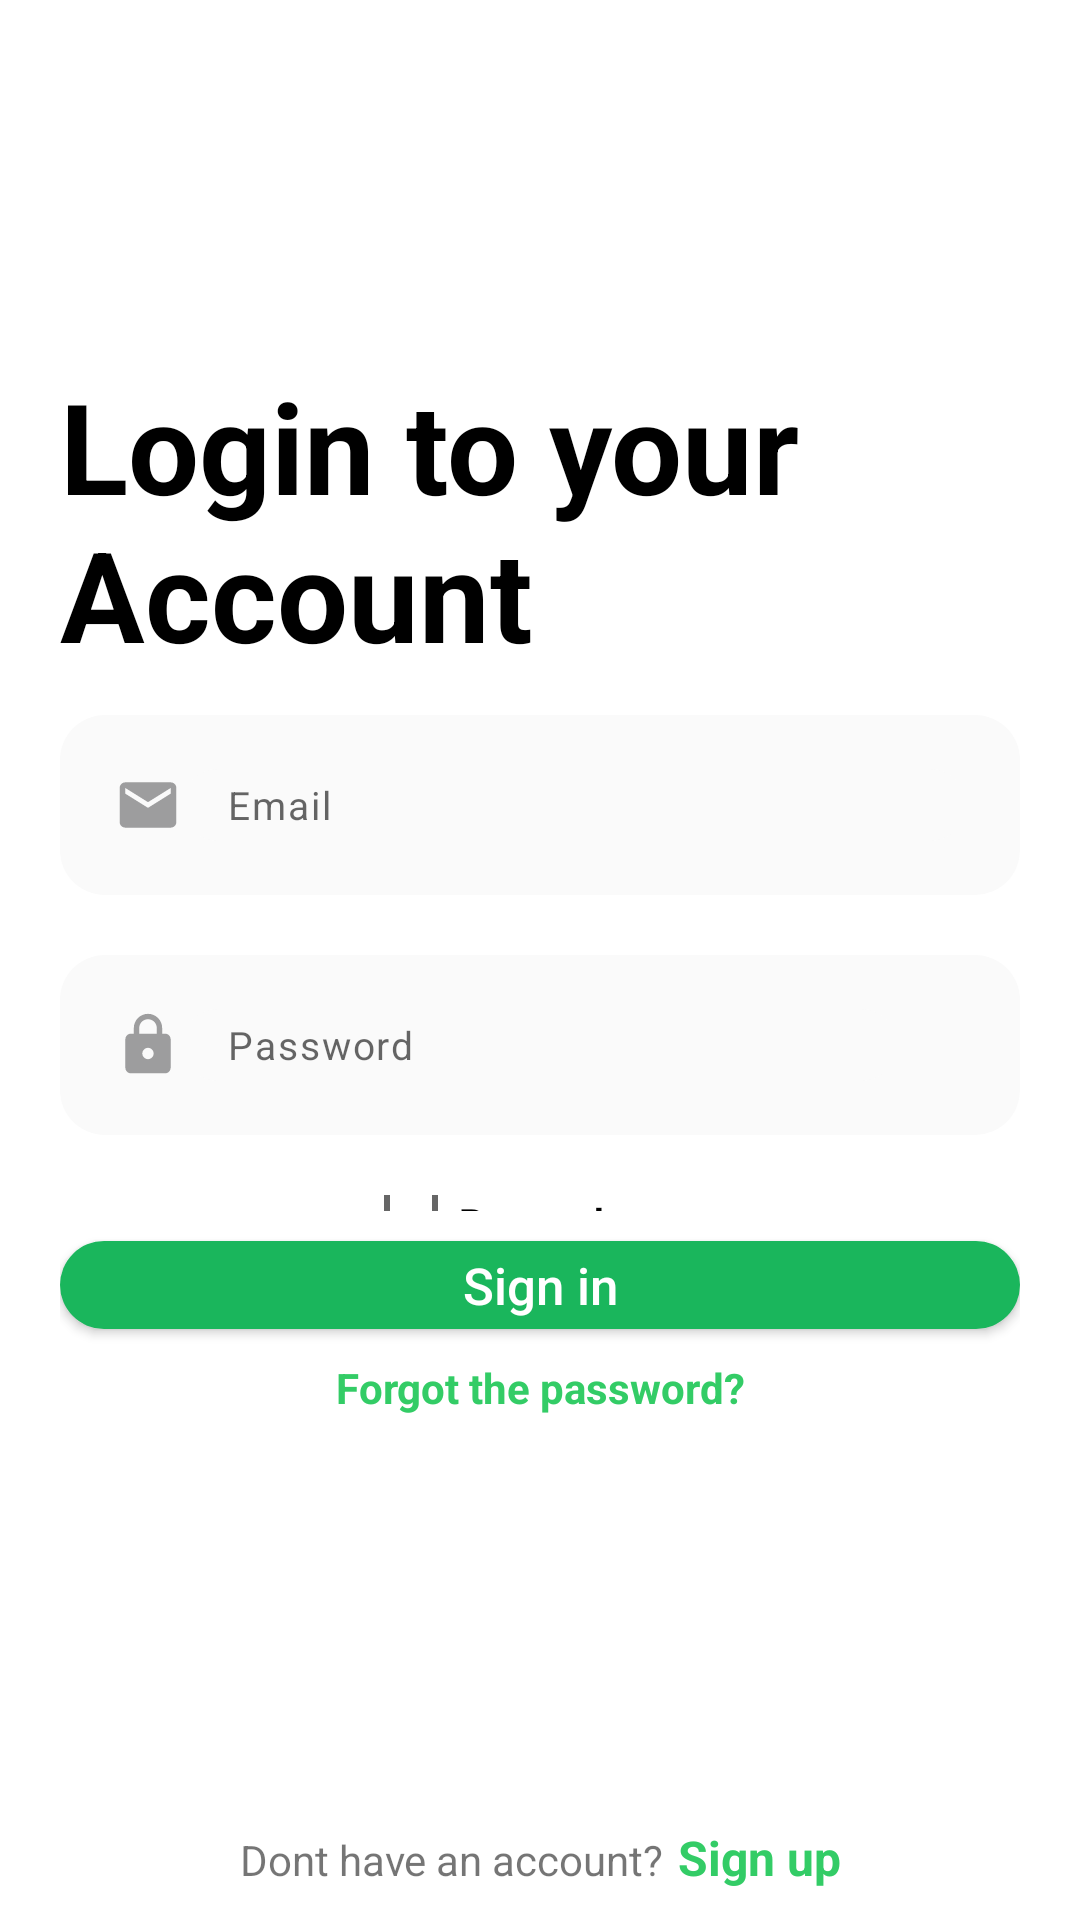

Locate icon controls on the screen. Image size 1080px×1920px, boxes as (x1, y1, x2, y2).
lock: (125, 1014, 171, 1073)
